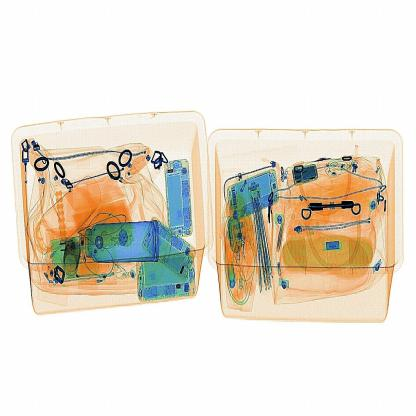knife: (305, 199, 359, 214)
